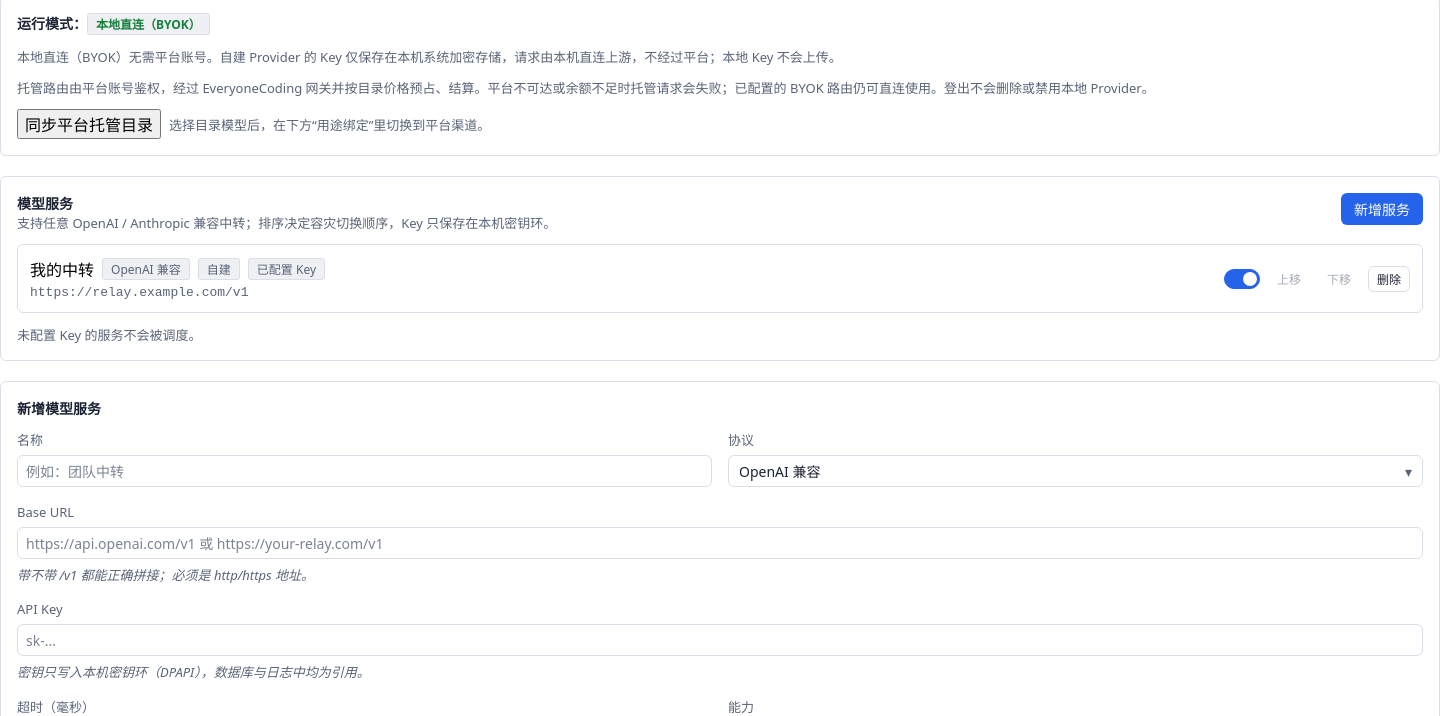
Scenario: Provider 设置页 › 连接失败时展示可操作建议
Click the text "我的中转": (178, 269) [30,257,325,281]
(page scrolled)
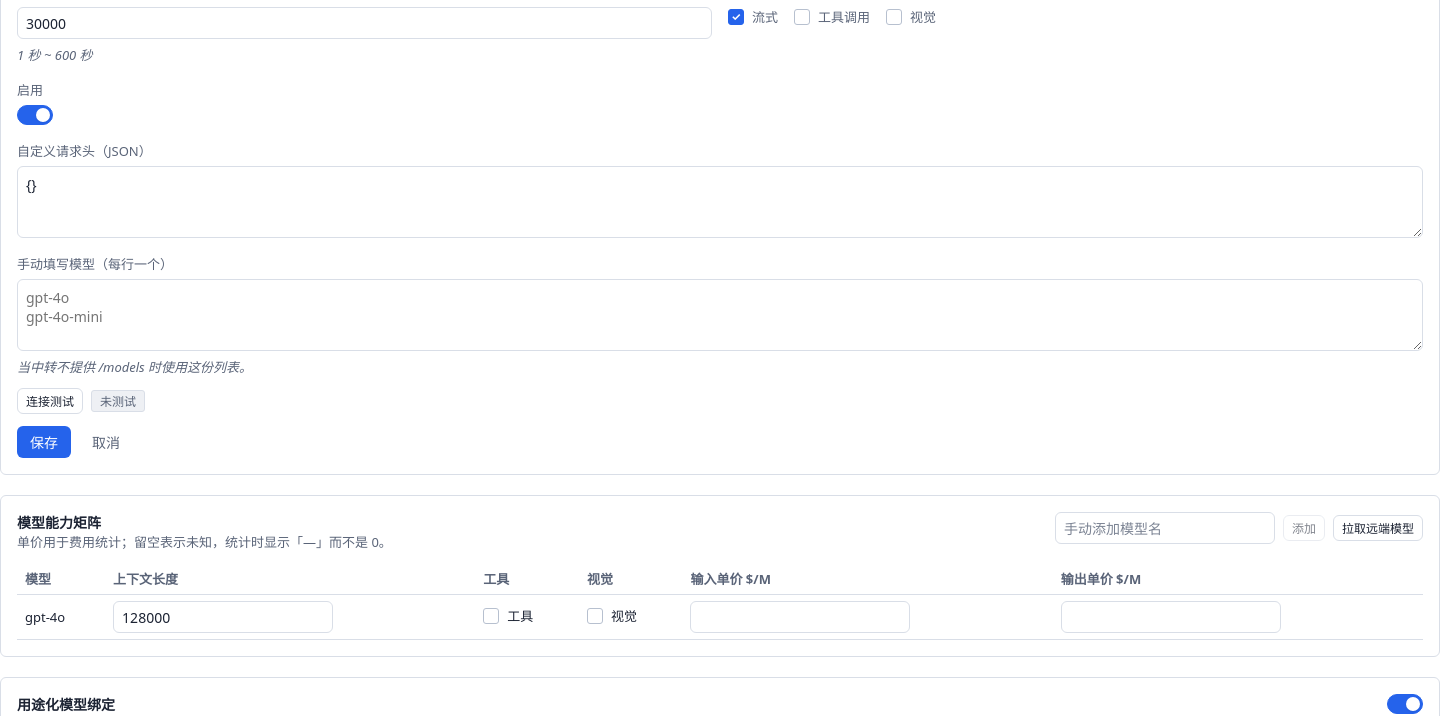
Click the button "连接测试": (50, 401) [17,388,83,414]
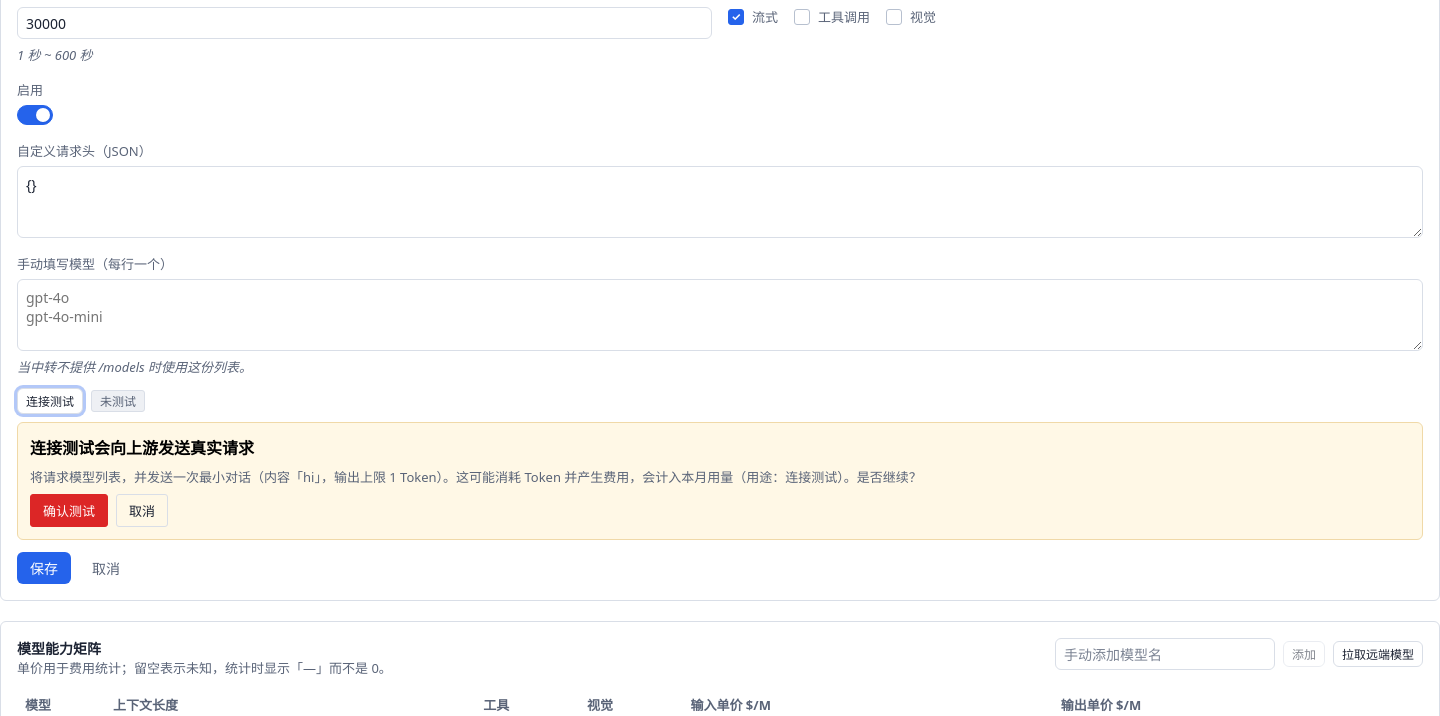
Click the button "确认测试": (69, 510) [30,494,108,527]
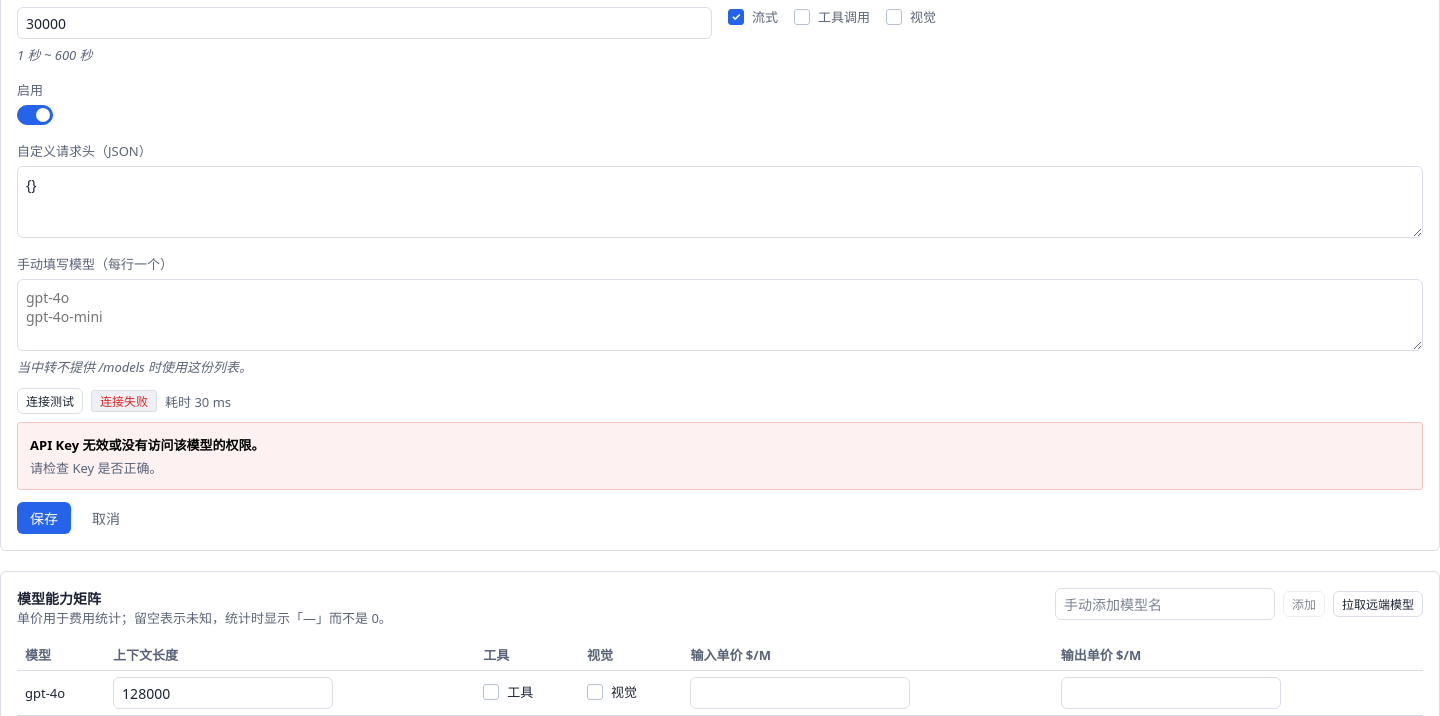
Result: the text "连接失败" is shown at [100,392,148,410]
Result: the text "请检查 Key 是否正确。" is shown at [30,459,162,477]
